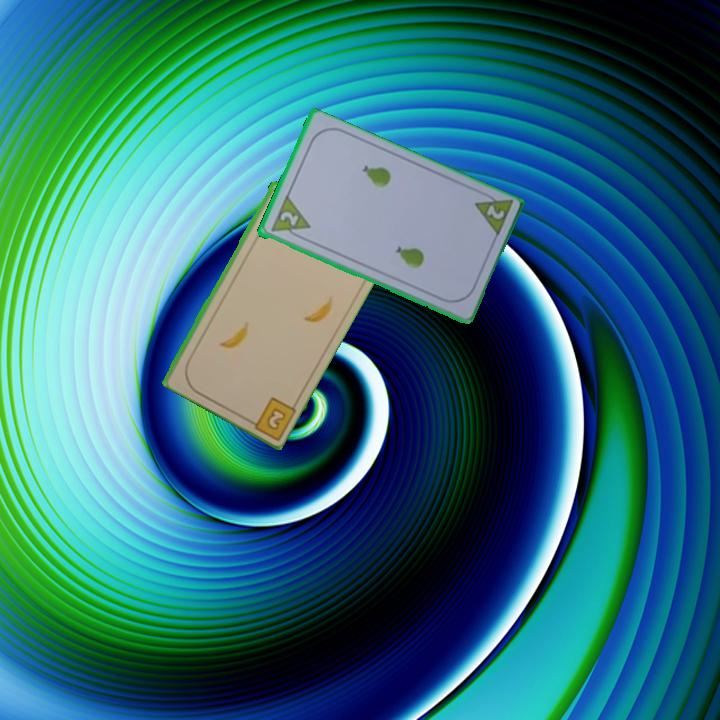2b: (242, 393, 298, 441)
2p: (470, 187, 515, 241), (266, 194, 313, 243)
